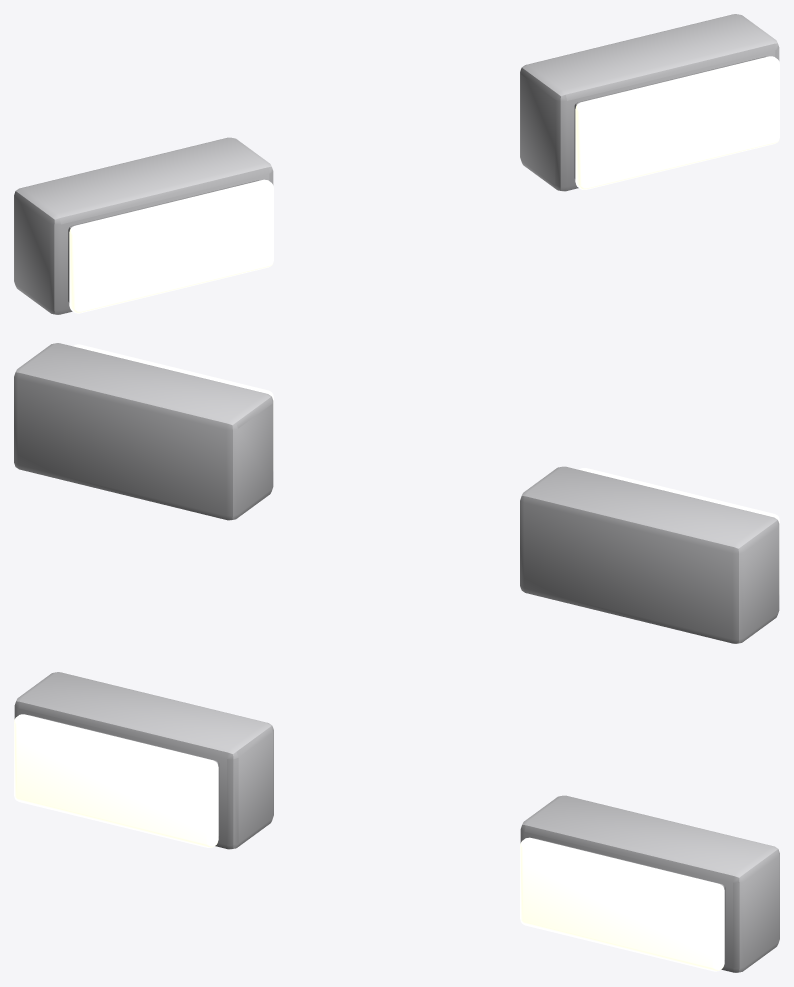
File: light_head_pair.glb
3 views of the same model, one above another, from view 1: azimuth 30°, elevation 25°; view 2: azimuth 150°, elevation 25°; view 3: azimuth 330°, elevation 25° (orthographic).
Visible parts, largest first — view 1: head_l_lens, head_r_lens, head_r_housing, head_l_housing; view 2: head_l_housing, head_r_housing, head_r_lens, head_l_lens; view 3: head_r_lens, head_l_lens, head_l_housing, head_r_housing.
Boxes of the visible parts, x1,y1,x2,y2 form: head_l_lens: (69, 179, 273, 313); head_r_lens: (575, 56, 779, 189); head_r_housing: (520, 14, 779, 191); head_l_housing: (14, 137, 273, 314); head_l_housing: (520, 466, 779, 643); head_r_housing: (14, 343, 273, 520); head_r_lens: (73, 344, 273, 471); head_l_lens: (579, 468, 779, 595); head_r_lens: (520, 837, 724, 971); head_l_lens: (14, 714, 218, 847); head_l_housing: (14, 672, 273, 849); head_r_housing: (520, 795, 779, 972).
Bounding box in the file's own units: 0.98 × 0.13 × 0.125.
